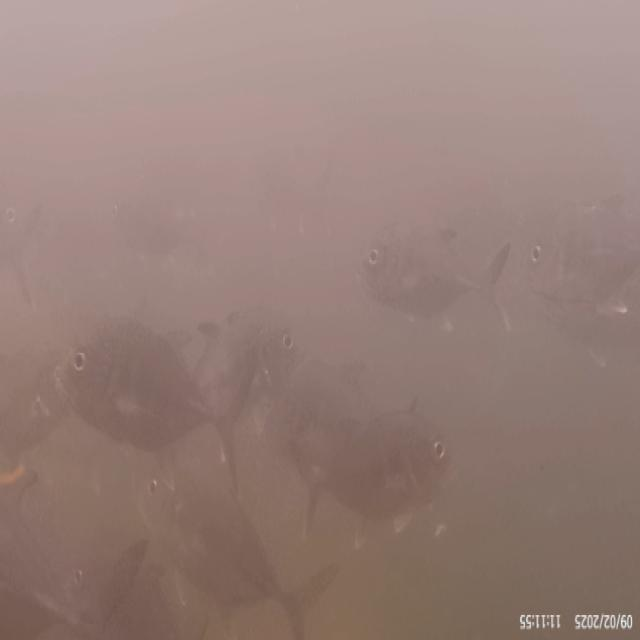ikan: (52, 285, 240, 493), (358, 200, 521, 353), (307, 400, 469, 550)
